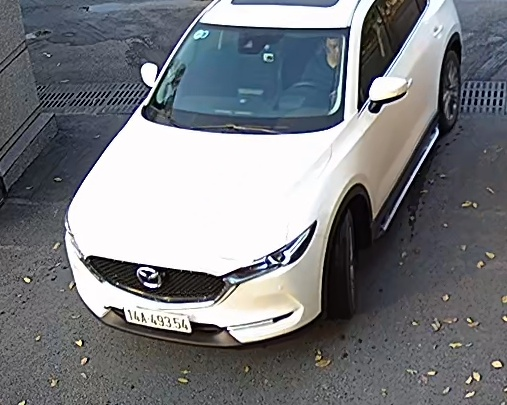vehicle plate: (117, 301, 192, 335)
